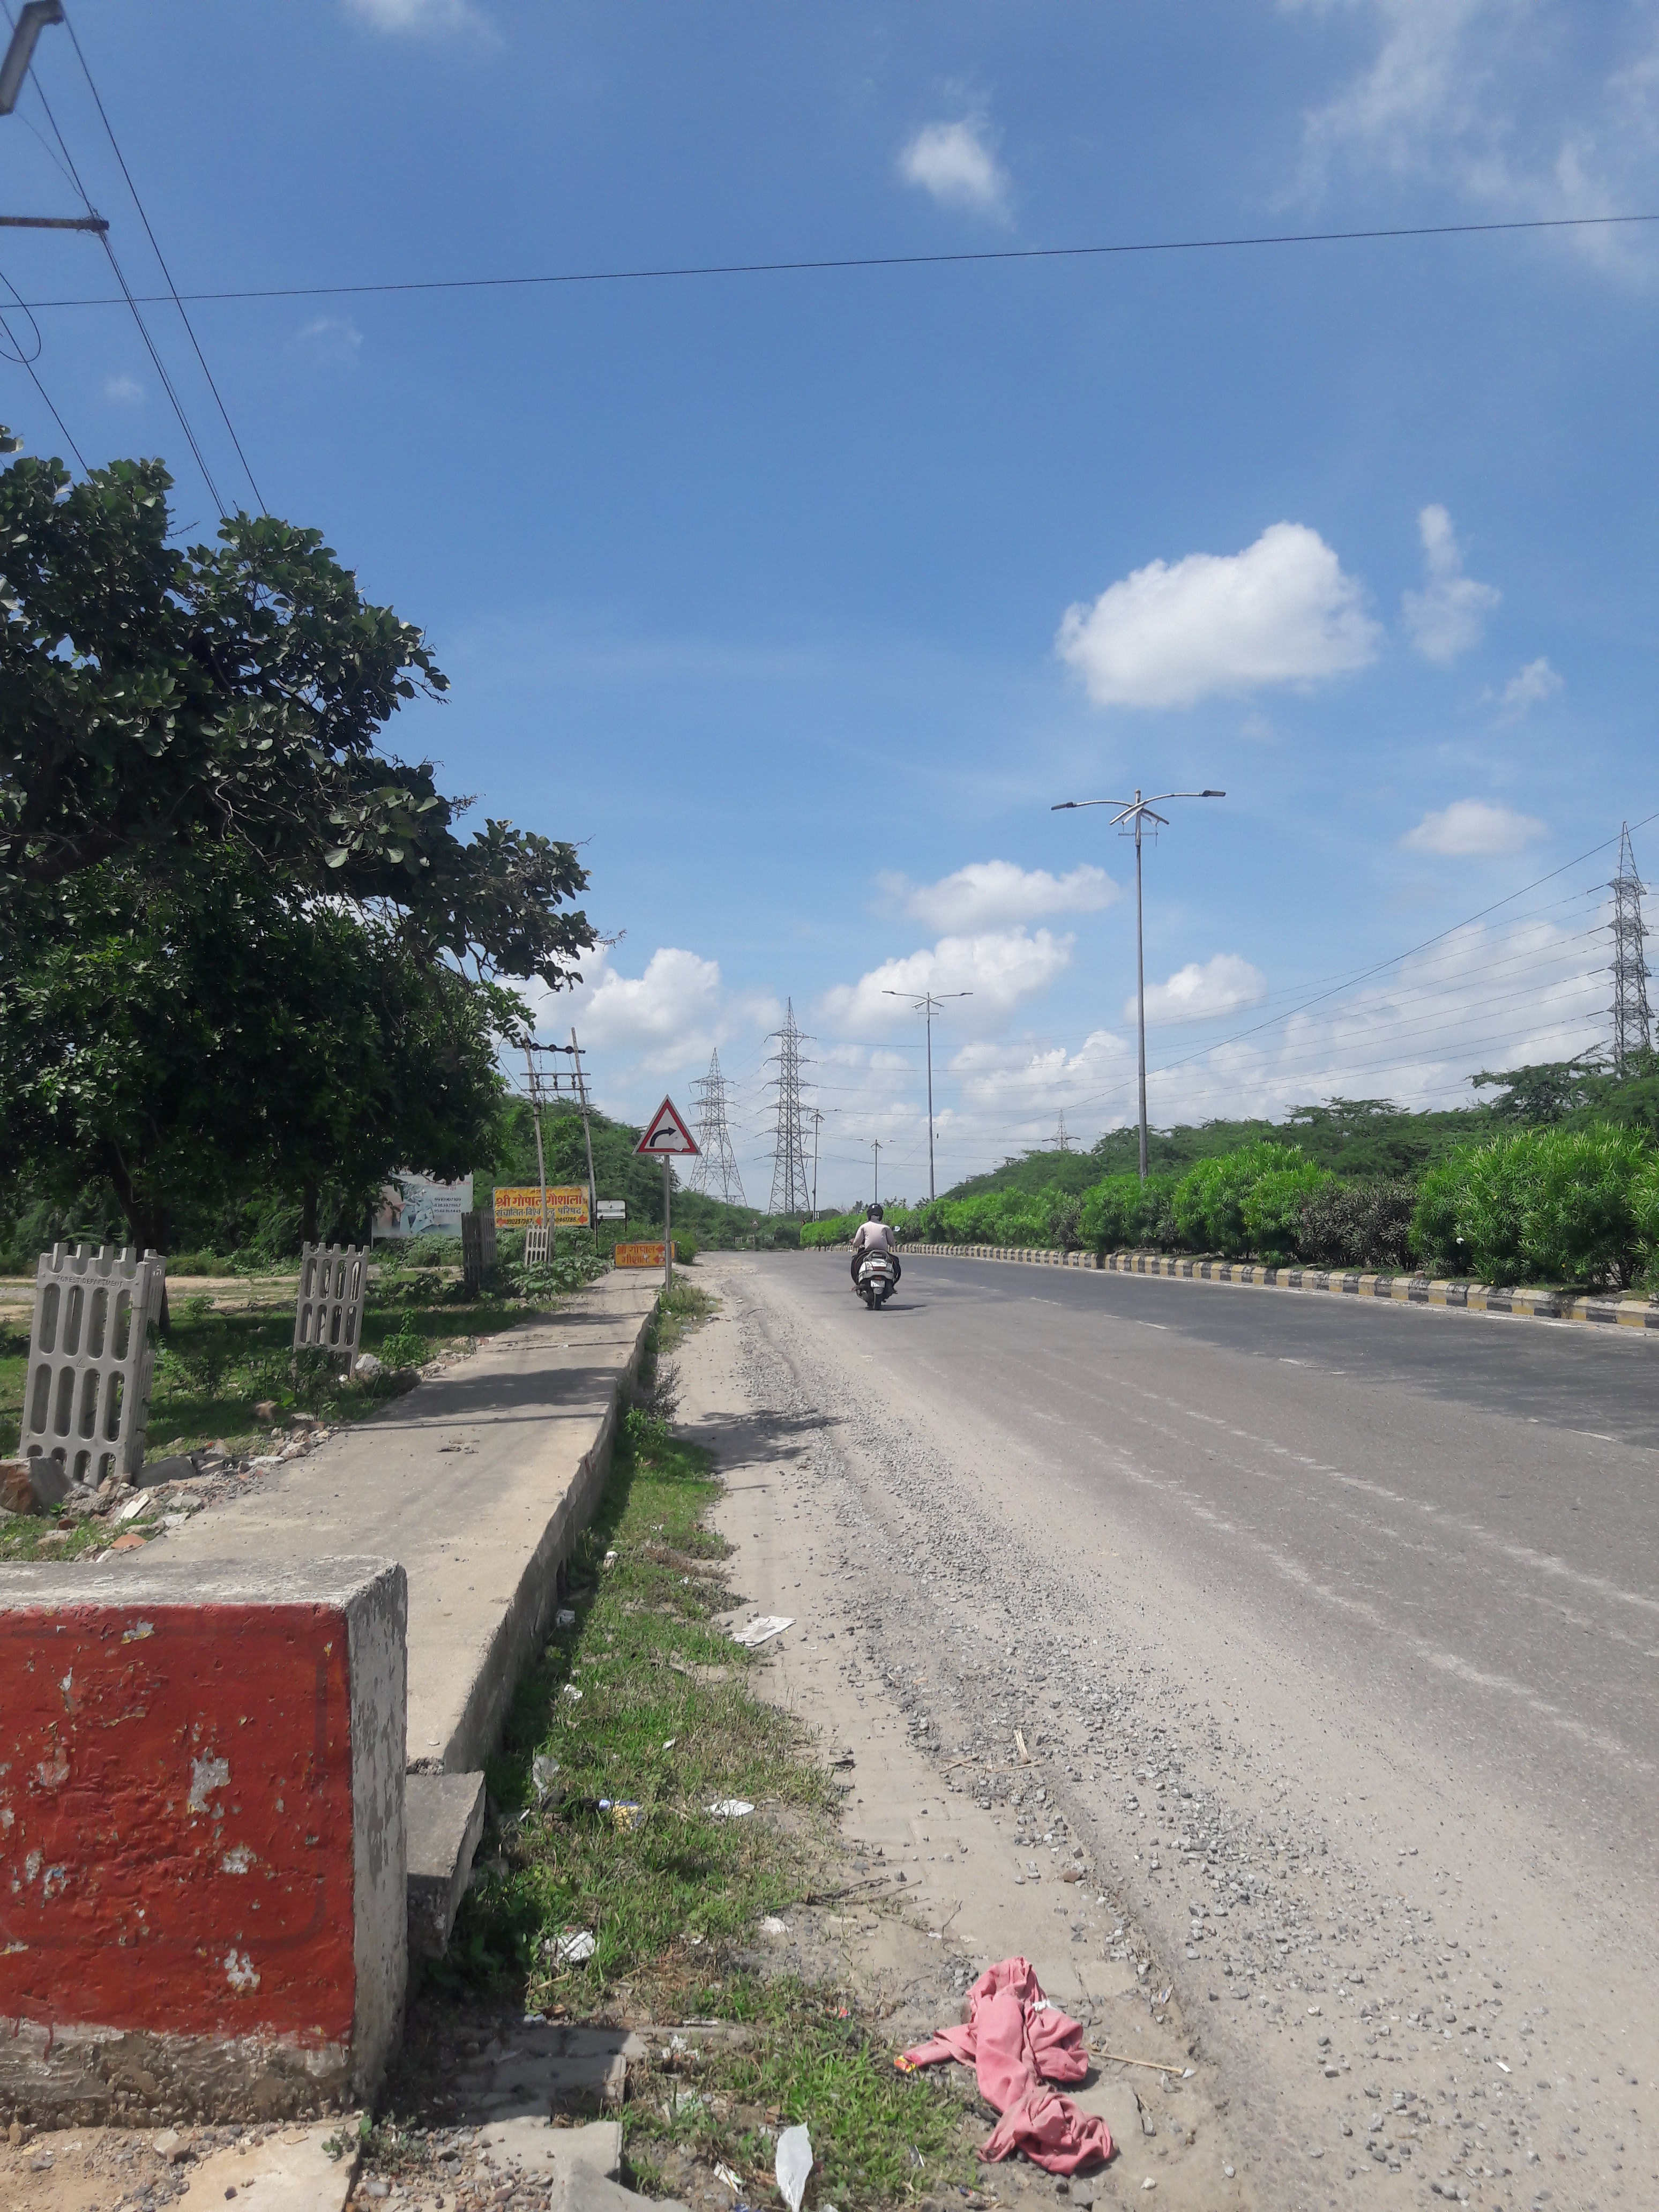traffic_sign: (631, 1094, 702, 1155)
